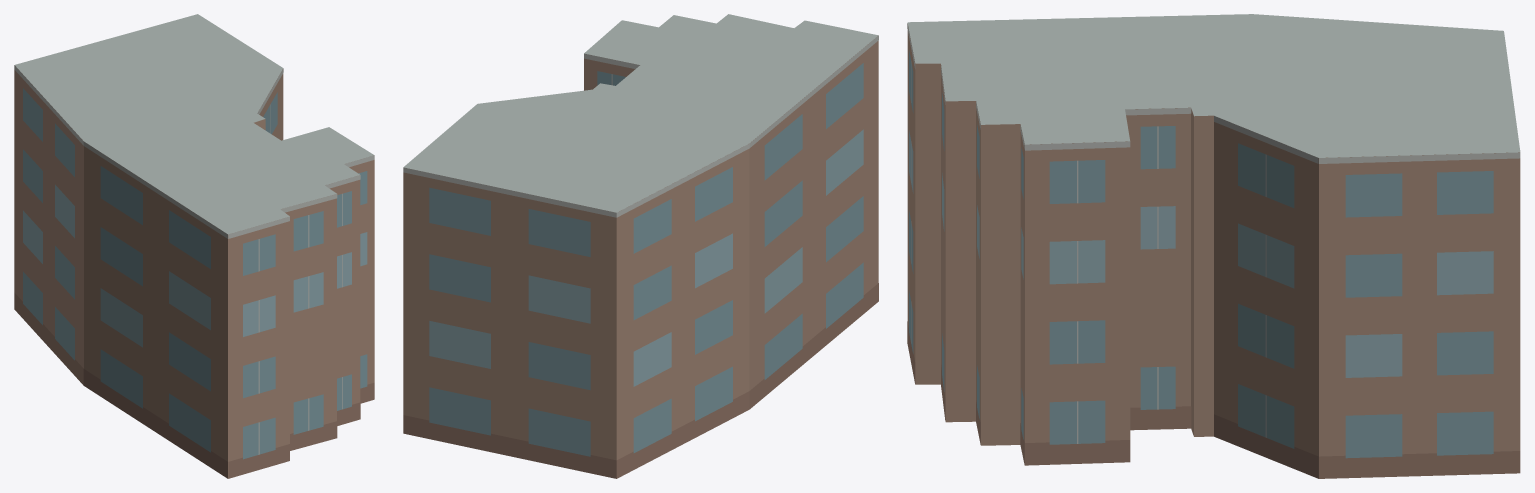
The model's file is survey-upis-32762954.glb.
3 views of the same model, side by side, from view 1: azimuth 30°, elevation 25°; view 2: azimuth 150°, elevation 25°; view 3: azimuth 270°, elevation 25° (orthographic). The views are drawn at different scales.
Visible parts, largest first — view 1: survey-upis-32762954.tmp; view 2: survey-upis-32762954.tmp; view 3: survey-upis-32762954.tmp.
Part boxes in pixels (<box>): survey-upis-32762954.tmp: <box>14,14,374,478</box>; survey-upis-32762954.tmp: <box>403,14,878,478</box>; survey-upis-32762954.tmp: <box>907,14,1520,478</box>.
Size of the model in its own units: 12.42 by 12.9 by 22.34.
